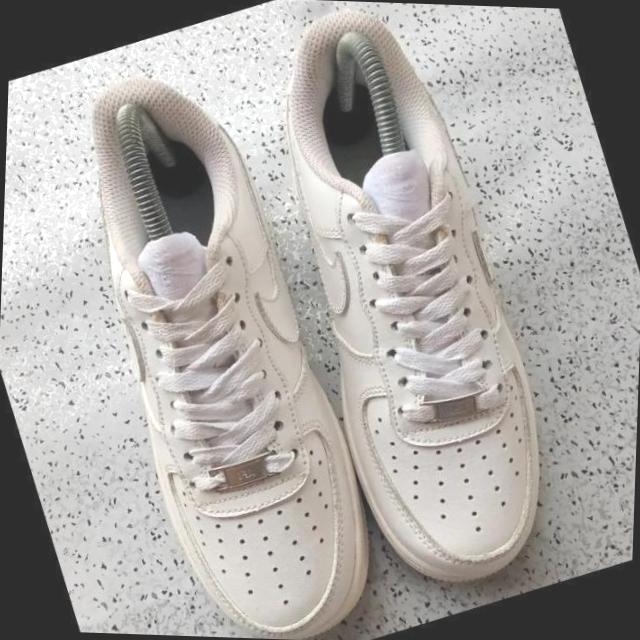nike_original_airforce: (199, 0, 632, 625), (17, 21, 425, 640)
